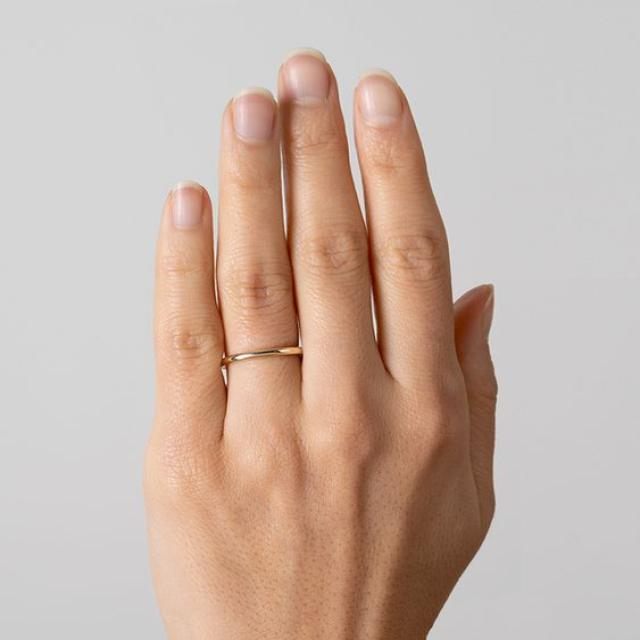Fingernail: (357, 71, 402, 126), (283, 50, 329, 100), (233, 88, 275, 142), (172, 185, 205, 228), (483, 286, 495, 336)
